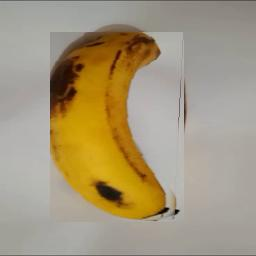Banana Semifresh: (51, 32, 185, 222)
